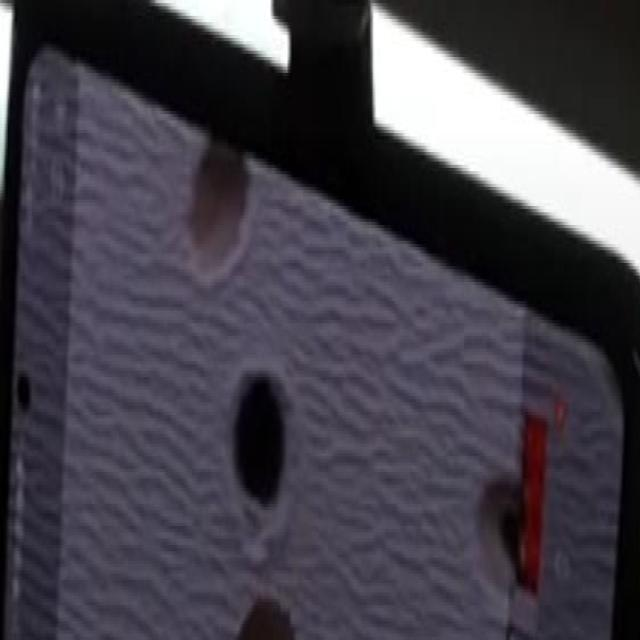hidden camera: (236, 368, 285, 511)
